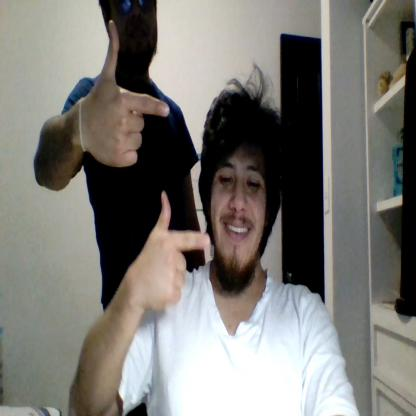G: (87, 21, 169, 166), (140, 191, 210, 307)
